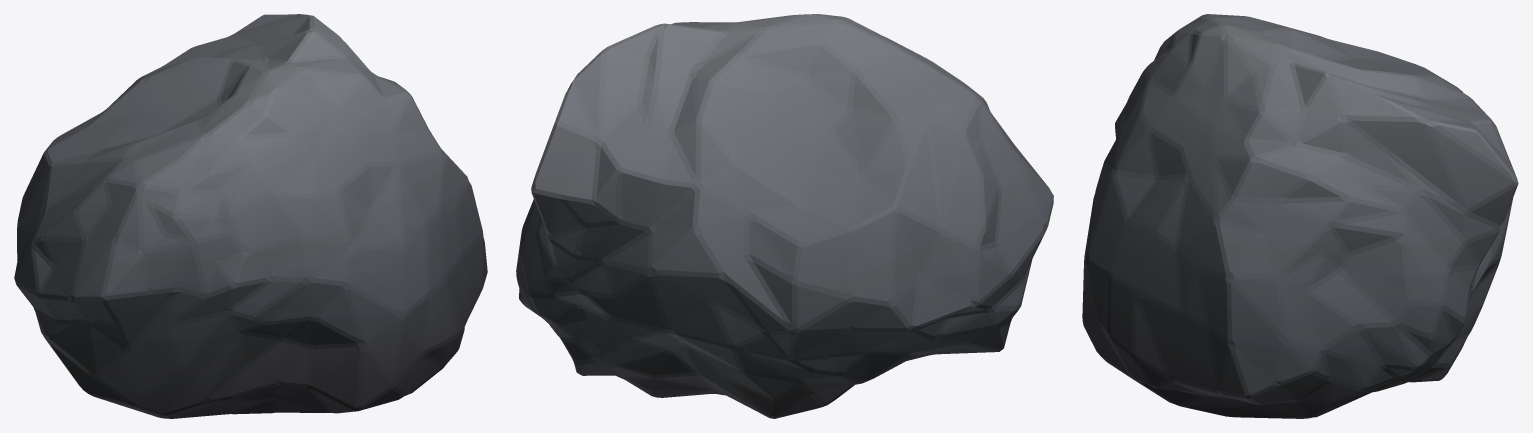
The model's file is IronResource2.glb.
The picture shows the model from 3 angles, left to right: view 1: azimuth 30°, elevation 25°; view 2: azimuth 150°, elevation 25°; view 3: azimuth 270°, elevation 25°; orthographic projection. The views are drawn at different scales.
Parts seen in each view (by area): view 1: IronResource2; view 2: IronResource2; view 3: IronResource2.
Part boxes in pixels (bbox=[...]): IronResource2: bbox=[14, 14, 487, 418]; IronResource2: bbox=[516, 14, 1053, 418]; IronResource2: bbox=[1082, 14, 1518, 418].
Bounding box in the file's own units: 0.6997 × 0.4875 × 0.5899.
1 material, 1 textured.
